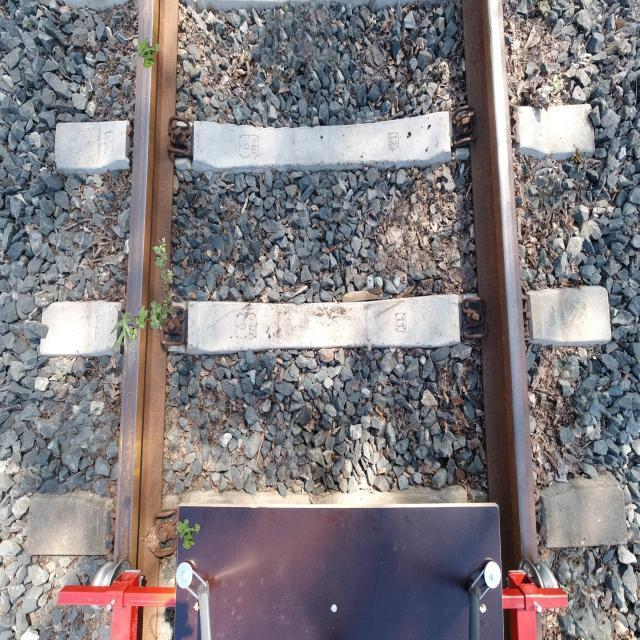Plant: (128, 236, 176, 339), (111, 312, 138, 354), (177, 519, 201, 550), (137, 38, 161, 68)
